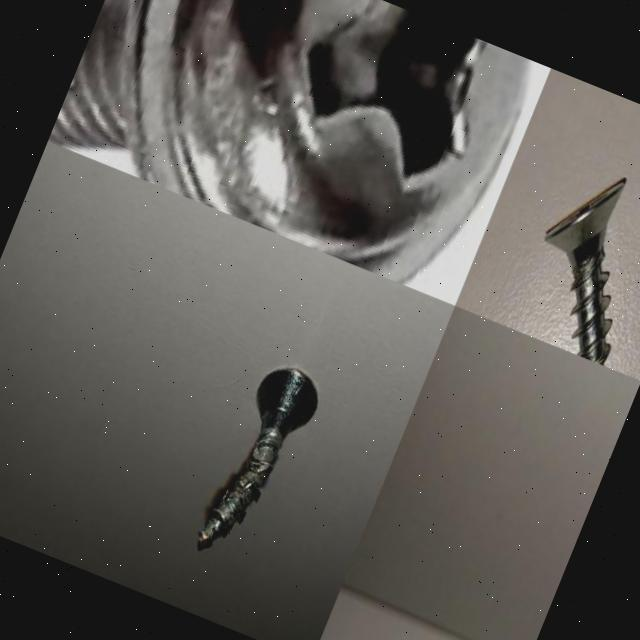Screw: (47, 0, 528, 283), (196, 369, 317, 552), (544, 179, 624, 366)
